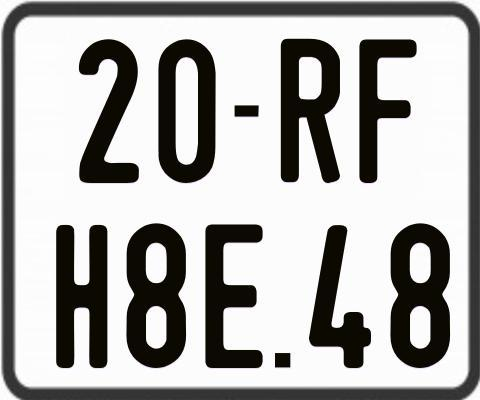0: (158, 39, 222, 184)
2: (76, 39, 141, 183)
4: (309, 225, 377, 371)
8: (123, 221, 186, 371), (390, 223, 453, 368)
E: (205, 222, 266, 369)
F: (358, 38, 420, 182)
H: (56, 225, 112, 372)
R: (279, 36, 341, 186)
